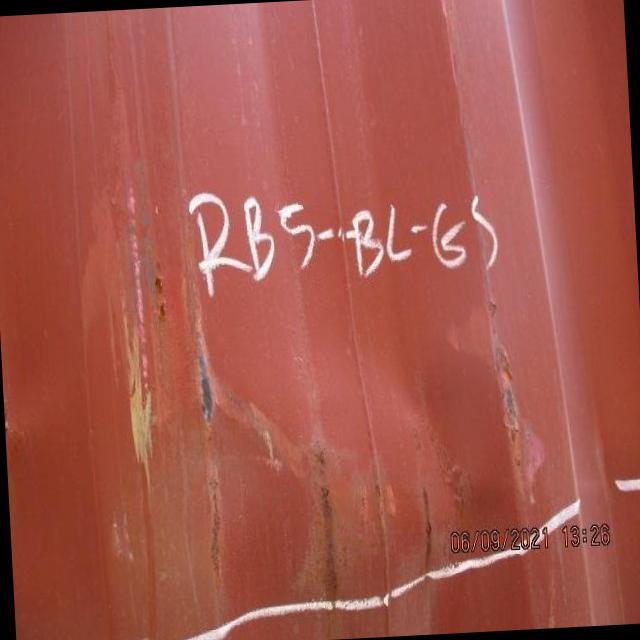Deframe_or_Dent: (71, 170, 629, 626)
